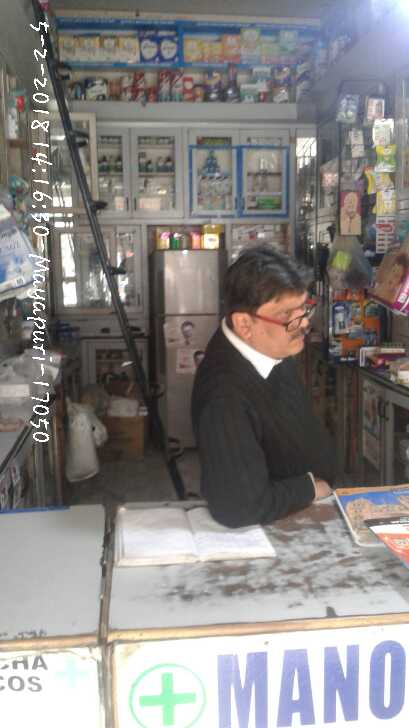vicks: (195, 144, 229, 175)
